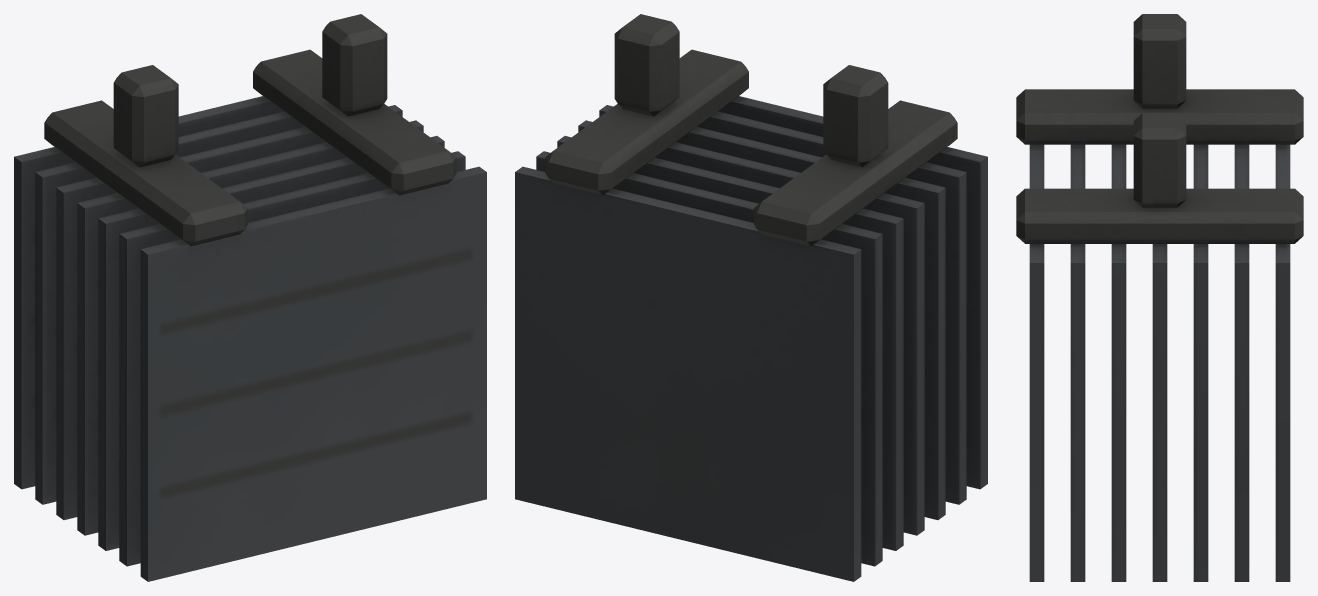
Rendered from RenewableEnergy_BatteryPlates.fbx.
The picture shows the model from 3 angles, left to right: view 1: azimuth 30°, elevation 25°; view 2: azimuth 150°, elevation 25°; view 3: azimuth 270°, elevation 25°; orthographic projection. The views are drawn at different scales.
Parts seen in each view (by area): view 1: BatteryPlates; view 2: BatteryPlates; view 3: BatteryPlates.
Boxes of the visible parts, x1,y1,x2,y2 form: BatteryPlates: (14,14,486,581); BatteryPlates: (515,14,987,581); BatteryPlates: (1016,14,1303,581).
Size of the model in its own units: 0.13 by 0.162 by 0.098.
